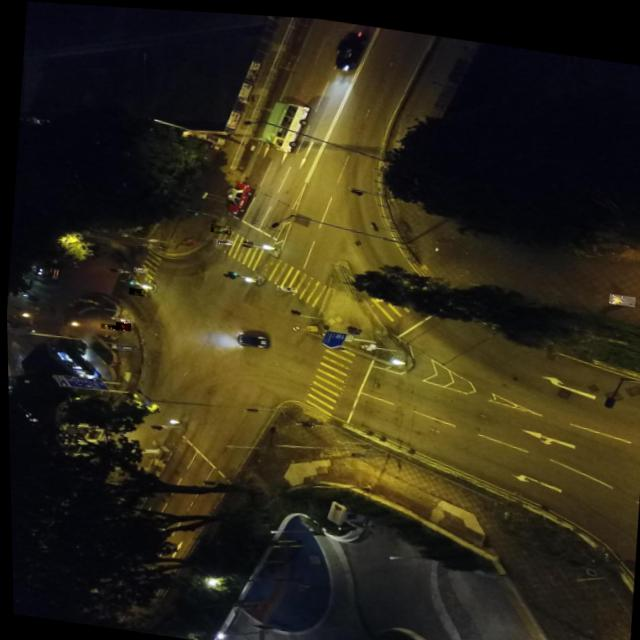Person: (607, 285, 634, 298), (209, 220, 230, 231), (275, 280, 296, 288), (113, 319, 130, 328), (99, 320, 118, 328), (211, 234, 232, 241), (127, 285, 144, 293), (101, 331, 118, 338), (132, 264, 146, 271), (114, 315, 130, 321)
